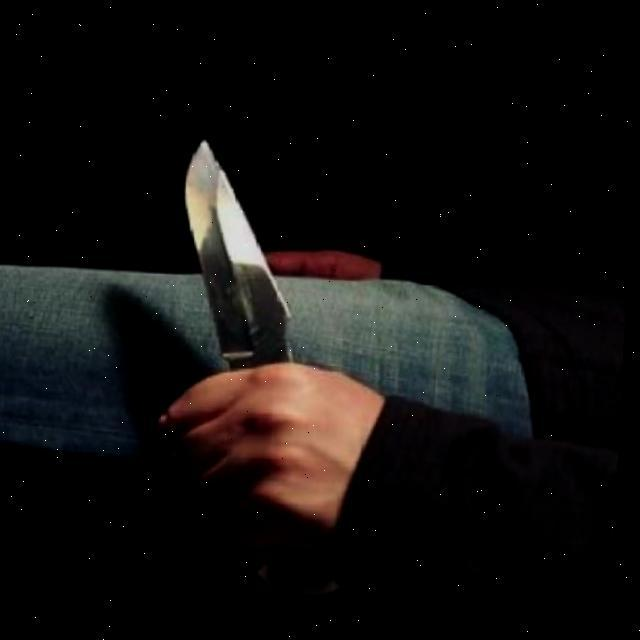knife: (168, 132, 360, 596)
